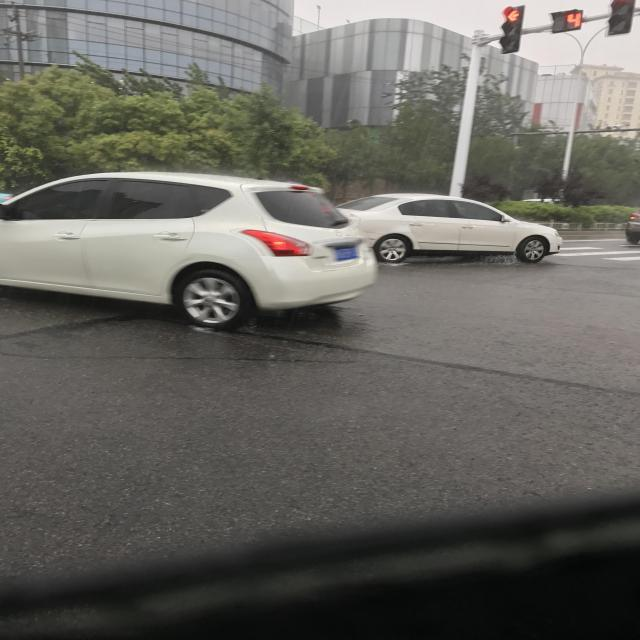car: (171, 265, 330, 640), (192, 76, 262, 303)
